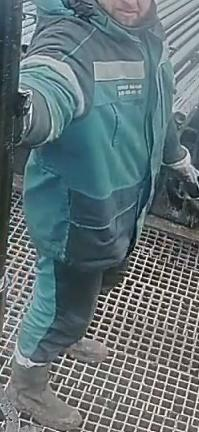gloves: (160, 145, 198, 211)
vest: (20, 3, 175, 270)
